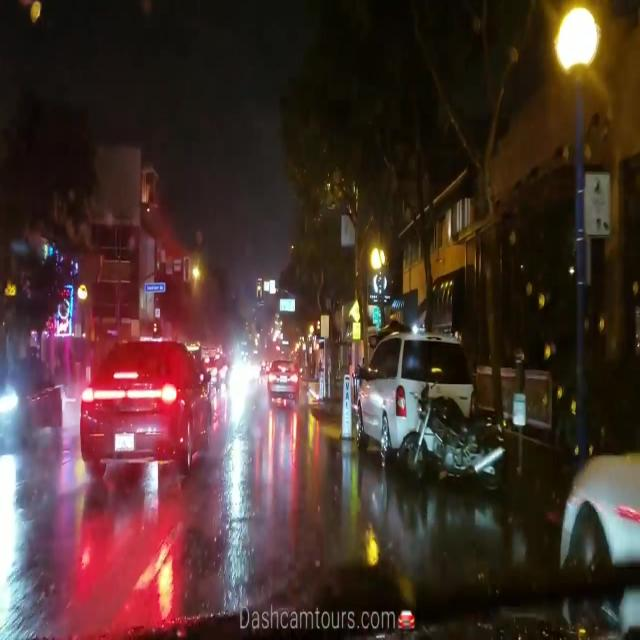Car: (75, 343, 211, 472), (353, 339, 470, 481), (556, 451, 637, 639), (5, 359, 62, 461), (264, 360, 300, 400)
